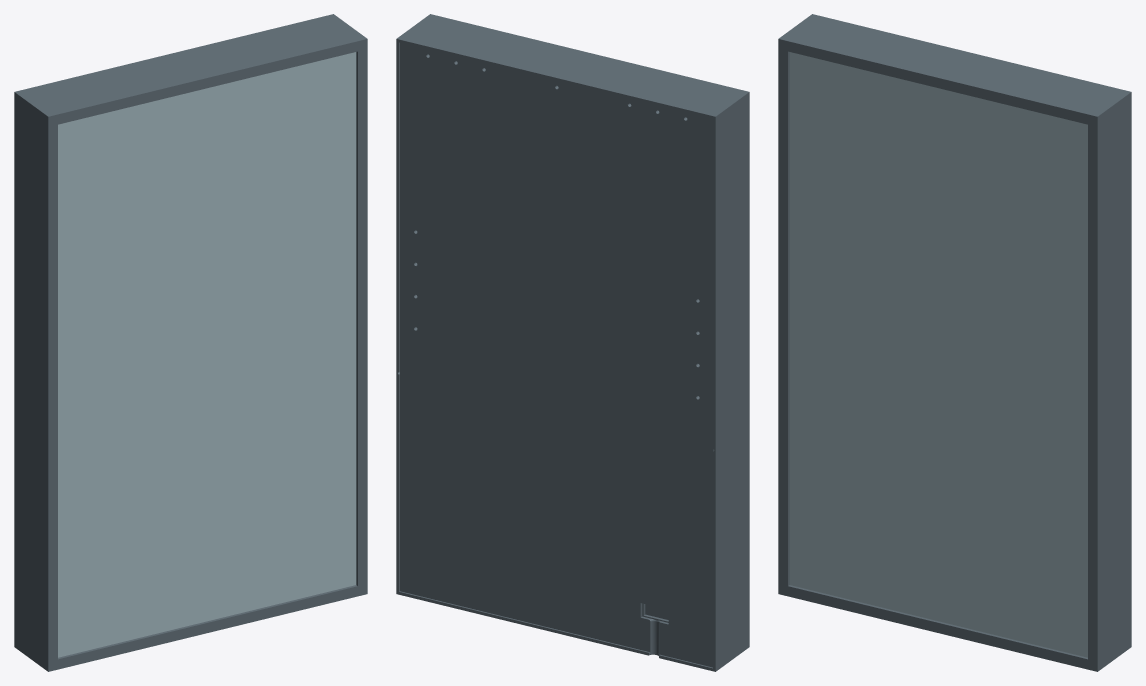
File: mirror-frame-2025-10.glb
The picture shows the model from 3 angles, left to right: view 1: azimuth 30°, elevation 25°; view 2: azimuth 150°, elevation 25°; view 3: azimuth 330°, elevation 25°; orthographic projection.
Parts seen in each view (by area): view 1: Mirror surface, Frame component 7, Frame component 6; view 2: Frame component 12, Frame component 7, Frame component 6; view 3: Mirror surface, Frame component 7, Frame component 6.
Boxes of the visible parts, x1,y1,x2,y2 form: Mirror surface: [58, 52, 356, 657]; Frame component 7: [14, 14, 365, 670]; Frame component 6: [46, 37, 367, 671]; Frame component 12: [400, 42, 713, 667]; Frame component 7: [396, 15, 747, 671]; Frame component 6: [429, 14, 749, 647]; Mirror surface: [789, 52, 1087, 657]; Frame component 7: [780, 14, 1131, 670]; Frame component 6: [778, 37, 1099, 671].
Bounding box in the file's own units: 0.2278 × 0.3785 × 0.042.
